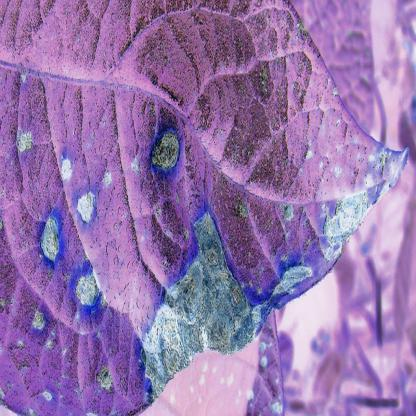potato leaf early blight: (3, 1, 408, 415)
